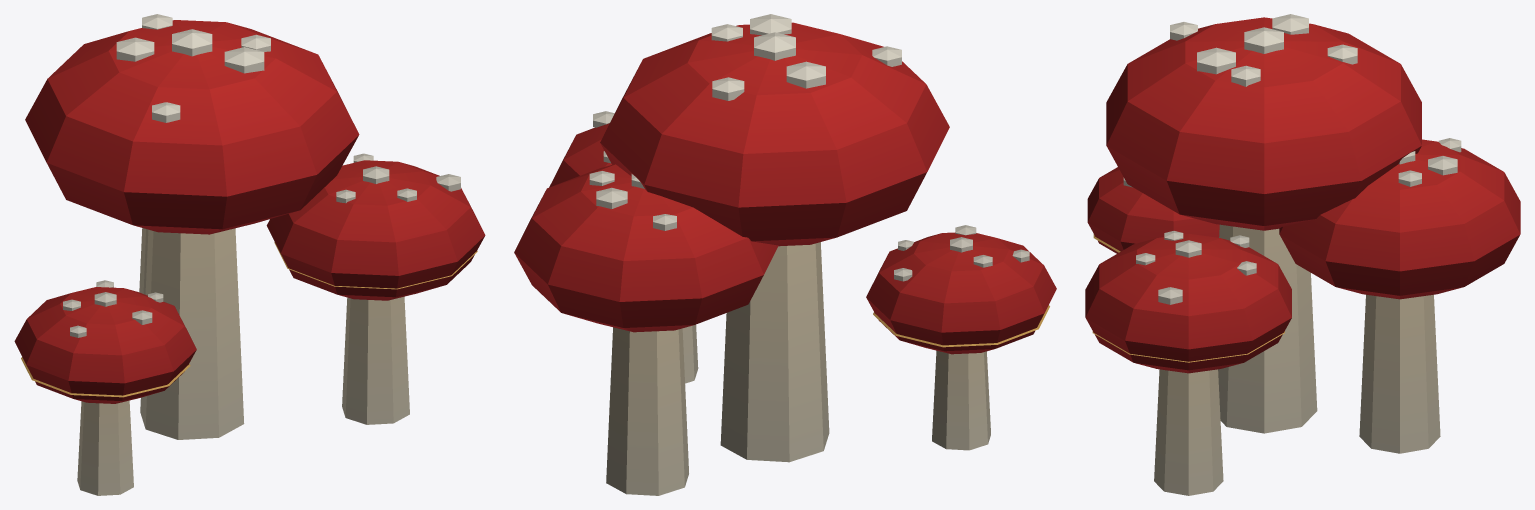
File: toadstool_cluster.glb
The picture shows the model from 3 angles, left to right: view 1: azimuth 30°, elevation 25°; view 2: azimuth 150°, elevation 25°; view 3: azimuth 270°, elevation 25°; orthographic projection. The views are drawn at different scales.
Parts seen in each view (by area): view 1: toadstool_cluster; view 2: toadstool_cluster; view 3: toadstool_cluster.
Boxes of the visible parts, <box> form: toadstool_cluster: <box>14,14,485,495</box>; toadstool_cluster: <box>514,14,1056,495</box>; toadstool_cluster: <box>1085,14,1520,495</box>.
Bounding box in the file's own units: 1.71 × 1.39 × 1.44.
